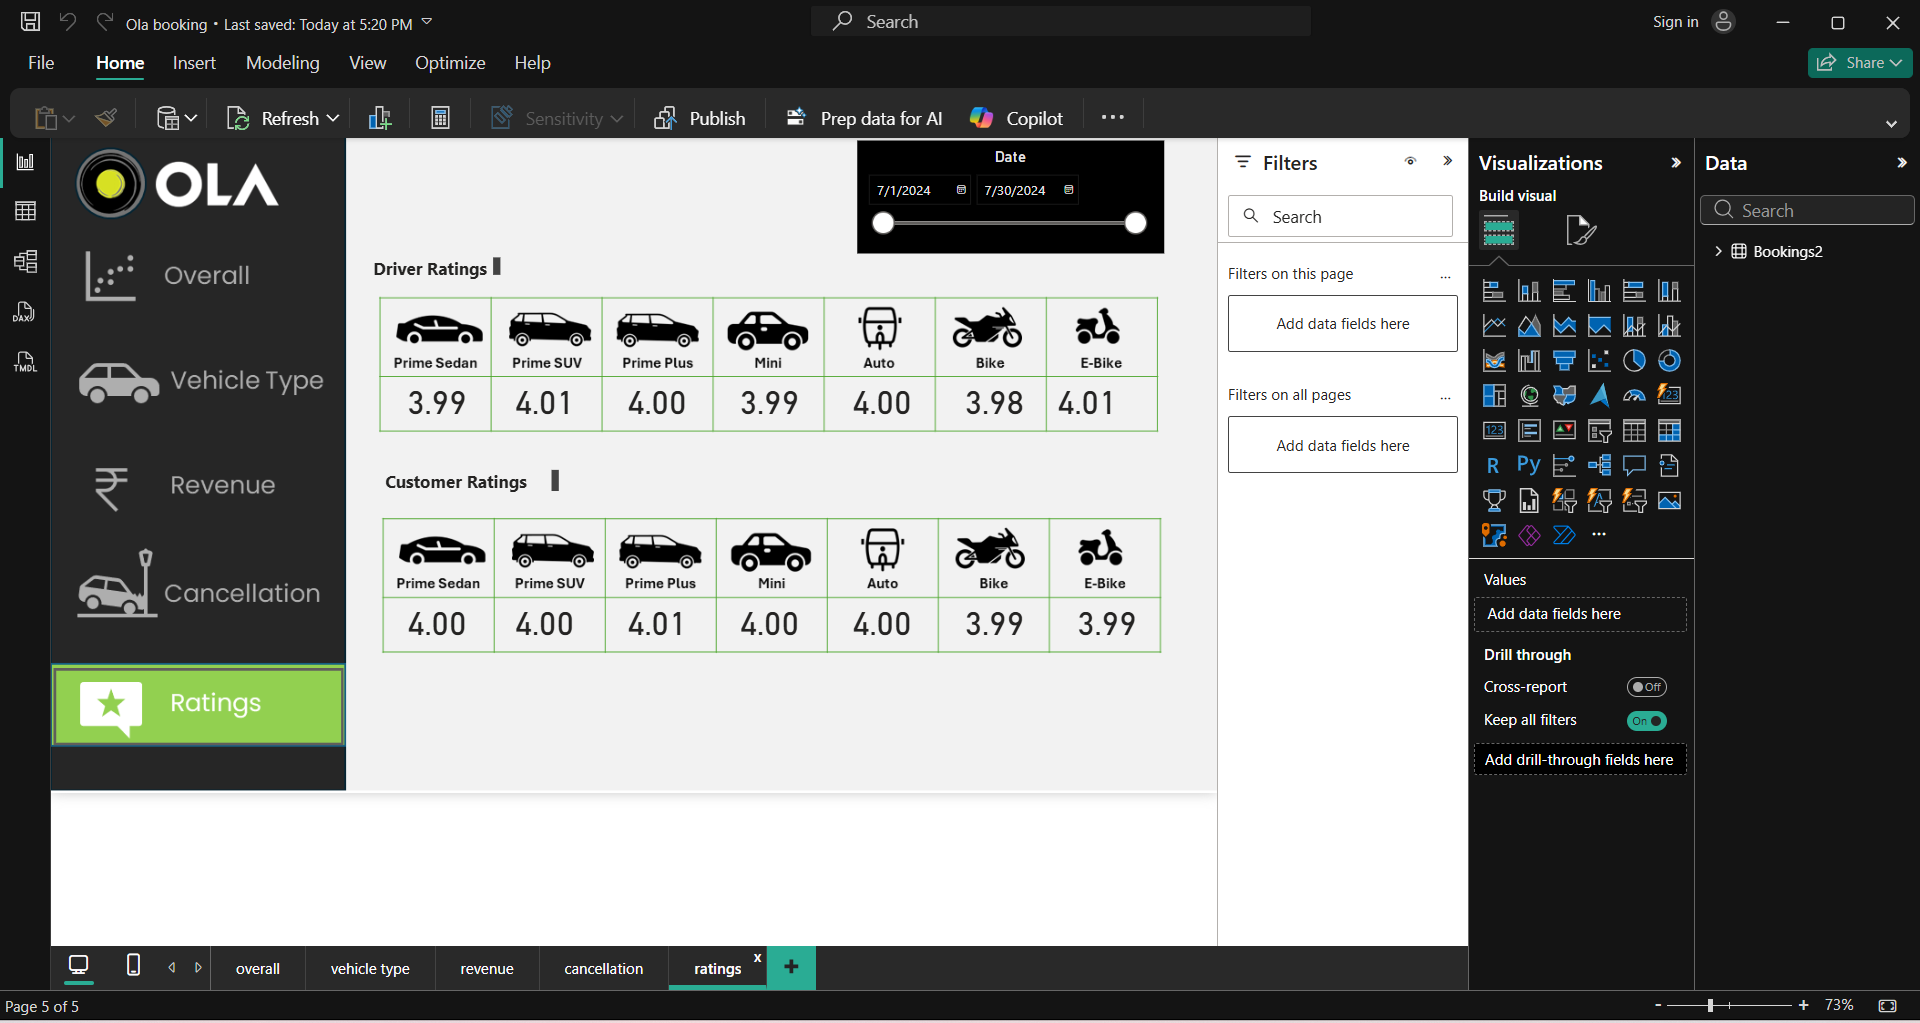

What the dashboard file says about the page in this screenshot:
{"tool":"powerbi","page":{"name":"ratings","canvas":[1280,720],"ordinal":4},"visuals":[{"type":"actionButton","box":[0,335,321.5,93.3],"z":0},{"type":"actionButton","box":[0,219.6,321.5,93.3],"z":1000},{"type":"actionButton","box":[0,454,326.4,92],"z":2000},{"type":"actionButton","box":[0,576.7,326.4,92],"z":3000},{"type":"actionButton","box":[10,586.7,321.5,93.3],"z":4000},{"type":"actionButton","box":[0,223.3,321.5,93.3],"z":5000},{"type":"actionButton","box":[0,108,321.5,93.3],"z":6000},{"type":"actionButton","box":[10,118,321.5,93.3],"z":7000},{"type":"actionButton","box":[2.5,335,321.2,93.8],"z":8000},{"type":"actionButton","box":[2.5,581.2,318.8,85],"z":9000},{"type":"actionButton","box":[2.5,115,318.8,86.2],"z":10000},{"type":"card","fields":{"Values":["Avg(Bookings2.Driver_Ratings)"]},"box":[362.3,256.6,123.5,60.4],"z":11000},{"type":"card","fields":{"Values":["Avg(Bookings2.Driver_Ratings)"]},"box":[480.3,256.6,123.5,60.4],"z":12000},{"type":"card","fields":{"Values":["Avg(Bookings2.Driver_Ratings)"]},"box":[603.8,256.6,123.5,60.4],"z":13000},{"type":"card","fields":{"Values":["Avg(Bookings2.Driver_Ratings)"]},"box":[727.3,256.6,123.5,60.4],"z":14000},{"type":"card","fields":{"Values":["Avg(Bookings2.Driver_Ratings)"]},"box":[850.8,256.6,123.5,60.4],"z":15000},{"type":"card","fields":{"Values":["Avg(Bookings2.Driver_Ratings)"]},"box":[974.3,256.6,123.5,60.4],"z":16000},{"type":"card","fields":{"Values":["Avg(Bookings2.Driver_Ratings)"]},"box":[1075.8,256.6,123.5,60.4],"z":17000},{"type":"card","fields":{"Values":["Avg(Bookings2.Customer_Rating)"]},"box":[362.3,499.5,123.5,60.4],"z":18000},{"type":"textbox","box":[348.5,126.2,149.6,38.4],"z":19000},{"type":"textbox","box":[362.3,359.5,200.3,41.2],"z":20000},{"type":"card","fields":{"Values":["Avg(Bookings2.Customer_Rating)"]},"box":[480.3,499.5,123.5,60.4],"z":21000},{"type":"card","fields":{"Values":["Avg(Bookings2.Customer_Rating)"]},"box":[603.8,499.5,123.5,60.4],"z":22000},{"type":"card","fields":{"Values":["Avg(Bookings2.Customer_Rating)"]},"box":[727.3,499.5,123.5,60.4],"z":23000},{"type":"card","fields":{"Values":["Avg(Bookings2.Customer_Rating)"]},"box":[850.8,499.5,123.5,60.4],"z":24000},{"type":"card","fields":{"Values":["Avg(Bookings2.Customer_Rating)"]},"box":[974.3,499.5,123.5,60.4],"z":25000},{"type":"card","fields":{"Values":["Avg(Bookings2.Customer_Rating)"]},"box":[1097.8,499.5,123.5,60.4],"z":26000},{"type":"slicer","title":"Date","fields":{"Values":["Bookings2.Date"]},"box":[885.1,2.7,336.2,123.5],"z":27000}]}

Visuals, with their boxes on the page's 1280x720 design canvas (x1, y1, x2, y2). These are canvas units, not pixel positions in the 1920x1023 screenshot, which may show the page scaled, cropped or inside an application window:
actionButton: box=[0, 335, 322, 428]
actionButton: box=[0, 220, 322, 313]
actionButton: box=[0, 454, 326, 546]
actionButton: box=[0, 577, 326, 669]
actionButton: box=[10, 587, 332, 680]
actionButton: box=[0, 223, 322, 317]
actionButton: box=[0, 108, 322, 201]
actionButton: box=[10, 118, 332, 211]
actionButton: box=[2, 335, 324, 429]
actionButton: box=[2, 581, 321, 666]
actionButton: box=[2, 115, 321, 201]
card - Avg(Bookings2.Driver_Ratings): box=[362, 257, 486, 317]
card - Avg(Bookings2.Driver_Ratings): box=[480, 257, 604, 317]
card - Avg(Bookings2.Driver_Ratings): box=[604, 257, 727, 317]
card - Avg(Bookings2.Driver_Ratings): box=[727, 257, 851, 317]
card - Avg(Bookings2.Driver_Ratings): box=[851, 257, 974, 317]
card - Avg(Bookings2.Driver_Ratings): box=[974, 257, 1098, 317]
card - Avg(Bookings2.Driver_Ratings): box=[1076, 257, 1199, 317]
card - Avg(Bookings2.Customer_Rating): box=[362, 500, 486, 560]
textbox: box=[348, 126, 498, 165]
textbox: box=[362, 360, 563, 401]
card - Avg(Bookings2.Customer_Rating): box=[480, 500, 604, 560]
card - Avg(Bookings2.Customer_Rating): box=[604, 500, 727, 560]
card - Avg(Bookings2.Customer_Rating): box=[727, 500, 851, 560]
card - Avg(Bookings2.Customer_Rating): box=[851, 500, 974, 560]
card - Avg(Bookings2.Customer_Rating): box=[974, 500, 1098, 560]
card - Avg(Bookings2.Customer_Rating): box=[1098, 500, 1221, 560]
"Date" slicer: box=[885, 3, 1221, 126]
